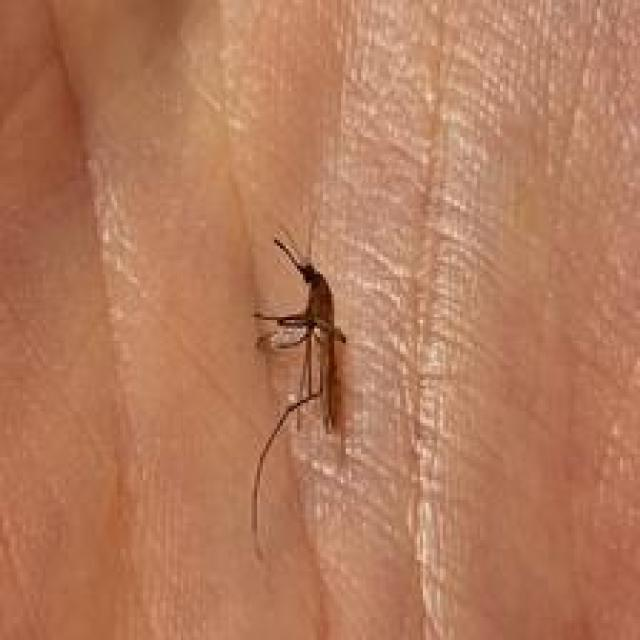Culex: (247, 229, 350, 560)
